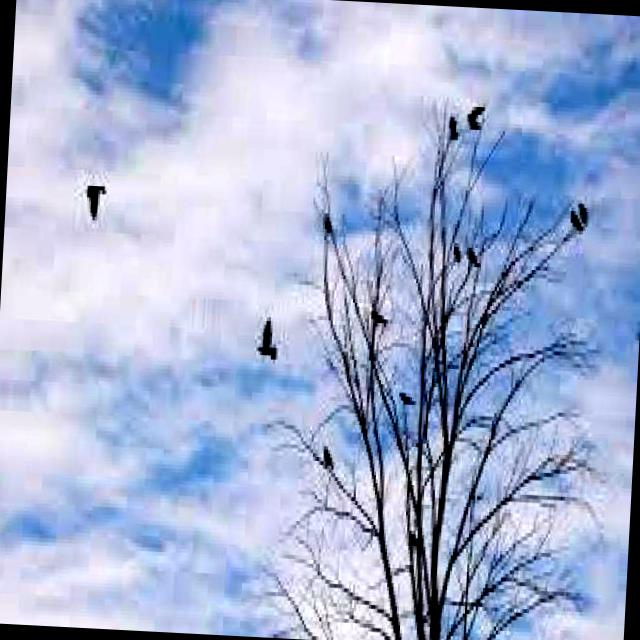bird: (76, 164, 120, 234), (428, 88, 462, 176), (245, 302, 285, 370), (308, 415, 345, 474), (464, 80, 492, 157), (576, 166, 600, 236), (560, 184, 586, 244), (440, 218, 468, 272), (362, 296, 388, 354), (400, 364, 424, 426), (466, 217, 486, 275)
